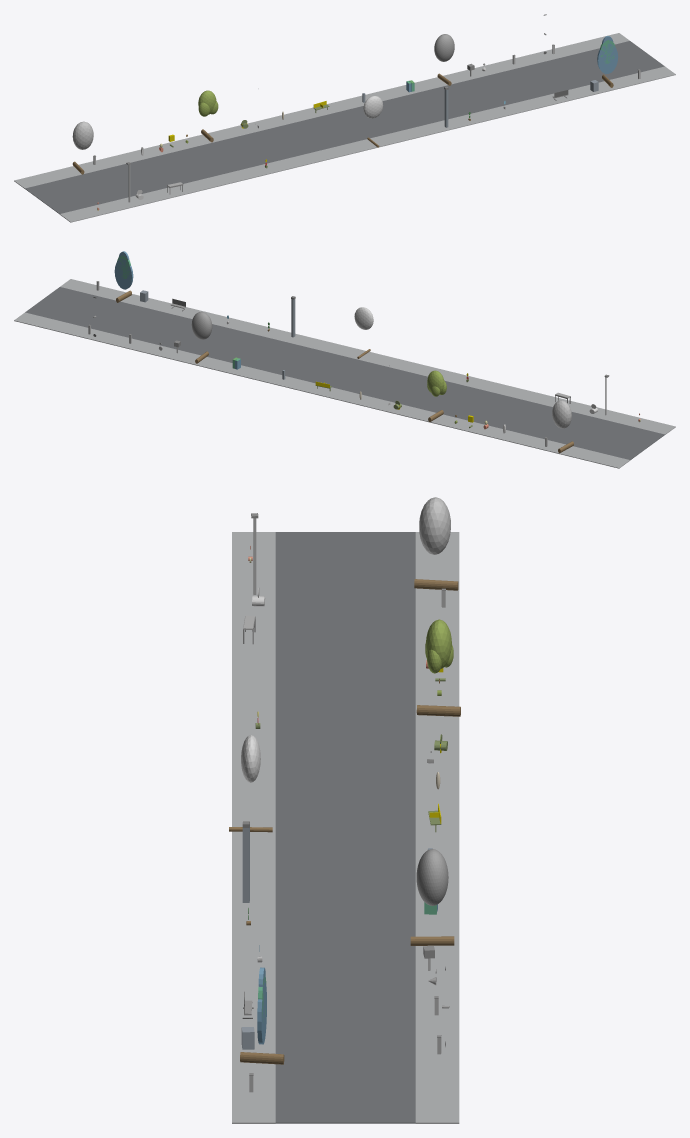
3 renders of one model, top to bottom at view 1: azimuth 30°, elevation 25°; view 2: azimuth 150°, elevation 25°; view 3: azimuth 270°, elevation 25°, orthographic. The views are drawn at different scales.
Parts seen in each view (by area): view 1: road_slab, sidewalk_left, sidewalk_right, inst_0016, inst_0012, inst_0015, inst_0013, inst_0014; view 2: road_slab, sidewalk_right, sidewalk_left, inst_0016, inst_0012, inst_0015, inst_0013, inst_0014; view 3: road_slab, sidewalk_left, sidewalk_right, inst_0012, inst_0015, inst_0013, inst_0016, inst_0014.
Boxes of the visible parts, x1,y1,x2,y2 form: road_slab: (25,41,664,214); sidewalk_left: (60,66,675,222); sidewalk_right: (14,33,629,188); inst_0016: (597,36,618,87); inst_0012: (72,121,93,174); inst_0015: (434,34,454,85); inst_0013: (198,90,218,142); inst_0014: (363,96,383,147); road_slab: (25,287,664,460); sidewalk_right: (14,312,629,468); sidewalk_left: (60,279,675,434); inst_0016: (114,251,133,302); inst_0012: (552,400,573,453); inst_0015: (191,311,212,363); inst_0013: (427,370,446,421); inst_0014: (354,307,373,358); road_slab: (275,532,415,1123); sidewalk_left: (232,532,275,1123); sidewalk_right: (415,532,459,1123); inst_0012: (414,497,458,590); inst_0015: (410,849,454,945); inst_0013: (416,619,460,716); inst_0016: (240,967,284,1064); inst_0014: (229,735,272,832).
Size of the model in its own units: 80 by 6.08 by 13.28.
